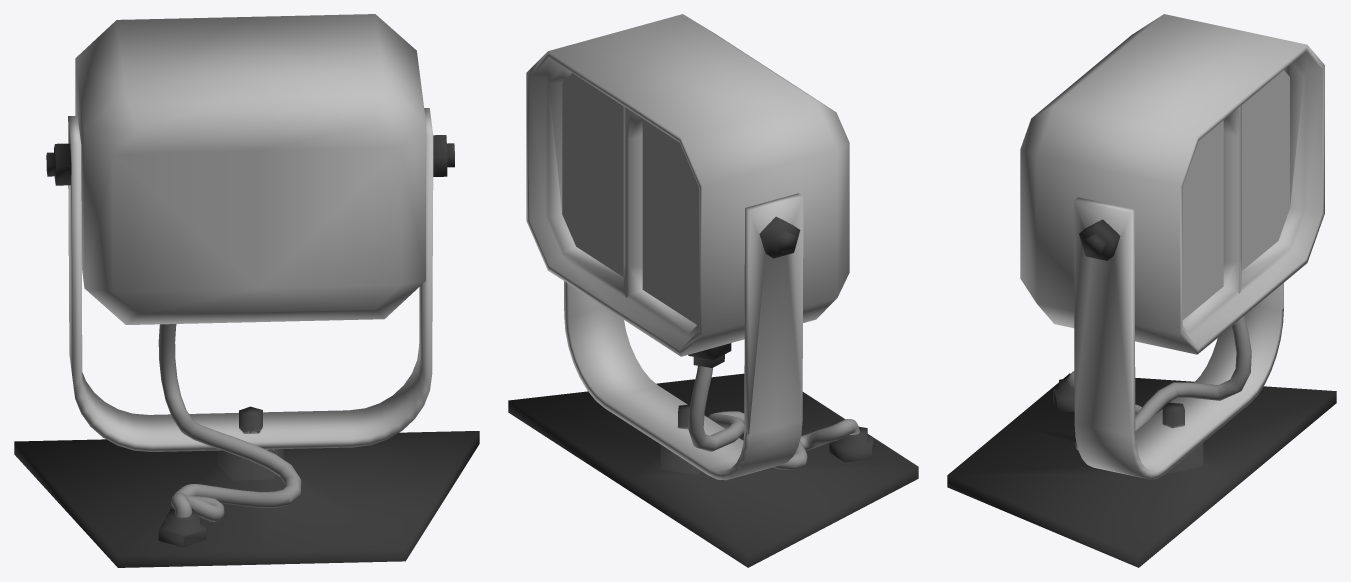
Rendered from CAMP_PROJO_LOW.fbx.
3 renders of one model, left to right at view 1: azimuth 30°, elevation 25°; view 2: azimuth 150°, elevation 25°; view 3: azimuth 270°, elevation 25°, orthographic. The views are drawn at different scales.
Visible parts, largest first — view 1: PROJO_ROT_LOW, PROJO_CABLE_LOW; view 2: PROJO_ROT_LOW, PROJO_CABLE_LOW; view 3: PROJO_ROT_LOW, PROJO_CABLE_LOW.
Boxes of the visible parts, left/top/right/bottom form: PROJO_ROT_LOW: left=14, top=14, right=479, bottom=567; PROJO_CABLE_LOW: left=158, top=324, right=301, bottom=521; PROJO_ROT_LOW: left=508, top=14, right=918, bottom=567; PROJO_CABLE_LOW: left=688, top=366, right=859, bottom=469; PROJO_ROT_LOW: left=947, top=14, right=1336, bottom=567; PROJO_CABLE_LOW: left=1066, top=316, right=1251, bottom=449.
Bounding box in the file's own units: 0.8062 × 0.8203 × 0.7269.
